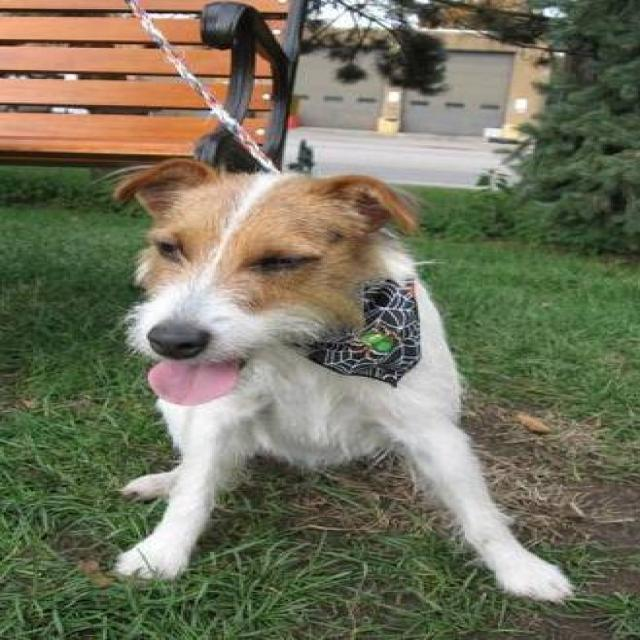dog: (99, 155, 576, 604)
